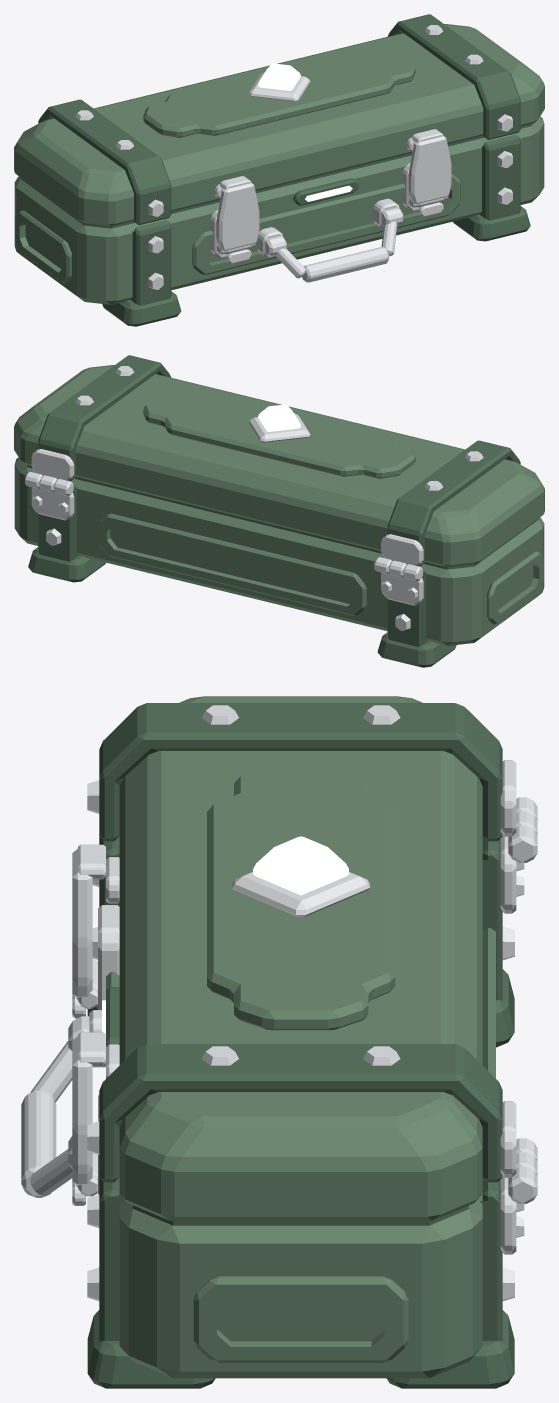
File: KnifeCase.fbx
The picture shows the model from 3 angles, top to bottom: view 1: azimuth 30°, elevation 25°; view 2: azimuth 150°, elevation 25°; view 3: azimuth 270°, elevation 25°; orthographic projection. The views are drawn at different scales.
Visible parts, largest first — view 1: Lid_Body, Base_Body, Lid_Frame, Base_Frame, LatchL_Hardware, LatchR_Hardware, Handle_Hardware, Base_Hardware, Lid_Hardware, Gem_Gem; view 2: Lid_Body, Base_Body, Lid_Frame, Base_Frame, Lid_Hardware, Base_Hardware, Gem_Gem; view 3: Lid_Body, Base_Body, Lid_Frame, Base_Frame, Lid_Hardware, Base_Hardware, Handle_Hardware, LatchL_Hardware, LatchR_Hardware, Gem_Gem.
Boxes of the visible parts, box(x1,y1,x2,y2) form: Lid_Body: box(14, 24, 544, 226); Base_Body: box(14, 116, 544, 304); Lid_Frame: box(38, 14, 520, 225); Base_Frame: box(20, 123, 532, 326); LatchL_Hardware: box(216, 176, 259, 263); LatchR_Hardware: box(408, 129, 451, 216); Handle_Hardware: box(265, 207, 403, 282); Base_Hardware: box(148, 151, 512, 289); Lid_Hardware: box(75, 25, 512, 216); Gem_Gem: box(258, 63, 300, 90); Lid_Body: box(14, 365, 544, 567); Base_Body: box(14, 457, 544, 645); Lid_Frame: box(38, 355, 520, 566); Base_Frame: box(26, 464, 538, 667); Lid_Hardware: box(25, 366, 483, 581); Base_Hardware: box(31, 475, 423, 630); Gem_Gem: box(258, 404, 300, 431); Lid_Body: box(119, 696, 482, 1220); Base_Body: box(106, 928, 495, 1378); Lid_Frame: box(99, 703, 502, 1182); Base_Frame: box(87, 836, 514, 1388); Lid_Hardware: box(87, 705, 537, 1203); Base_Hardware: box(78, 811, 537, 1301); Handle_Hardware: box(21, 1016, 89, 1197); LatchL_Hardware: box(72, 844, 105, 1018); LatchR_Hardware: box(72, 1032, 105, 1205); Gem_Gem: box(253, 836, 348, 895).
Size of the model in its own units: 1.64 by 0.57 by 0.7675.
